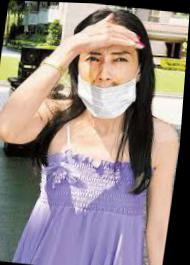WRONG: (74, 43, 143, 120)
